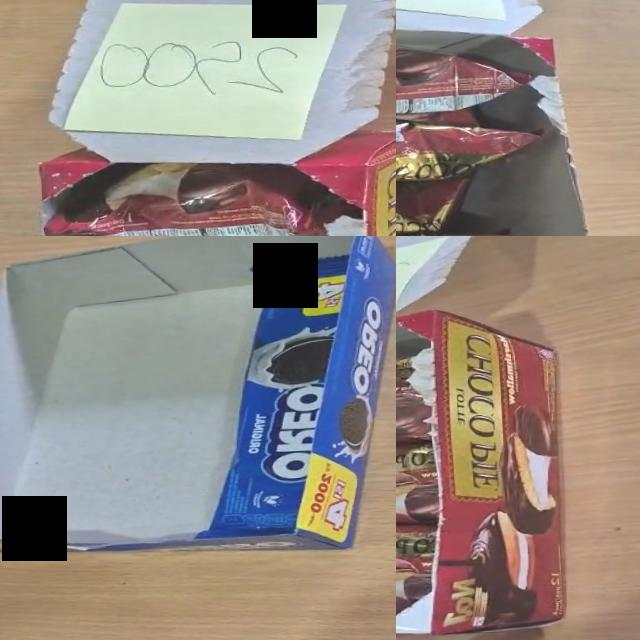Chocopie: (43, 153, 346, 236), (396, 47, 531, 115), (396, 124, 539, 181), (396, 517, 441, 629), (396, 348, 434, 459), (396, 180, 467, 236), (396, 439, 439, 529)
Oreo: (180, 254, 363, 540)
